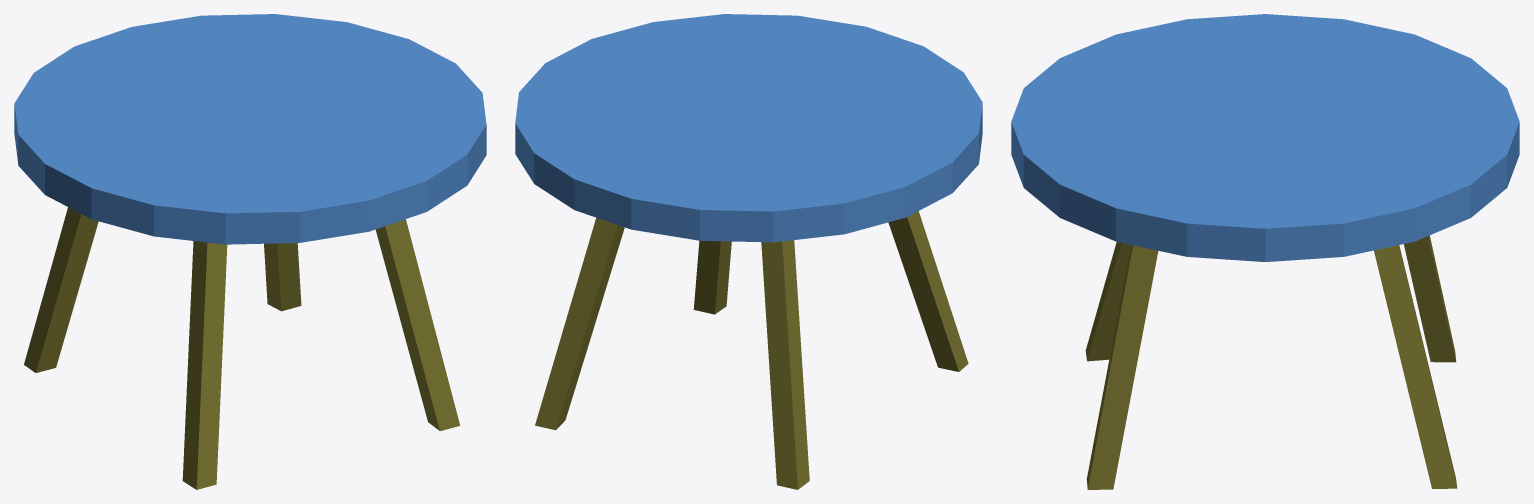
The model's file is Childrens_Room_Table.fbx.
3 views of the same model, side by side, from view 1: azimuth 30°, elevation 25°; view 2: azimuth 150°, elevation 25°; view 3: azimuth 270°, elevation 25° (orthographic). The views are drawn at different scales.
Visible parts, largest first — view 1: Childrens_Room_Table; view 2: Childrens_Room_Table; view 3: Childrens_Room_Table.
Part boxes in pixels (x1,y1,x2,y2): Childrens_Room_Table: (14, 14, 486, 489); Childrens_Room_Table: (515, 14, 982, 489); Childrens_Room_Table: (1011, 14, 1519, 489).
Size of the model in its own units: 128 by 83.99 by 128.
